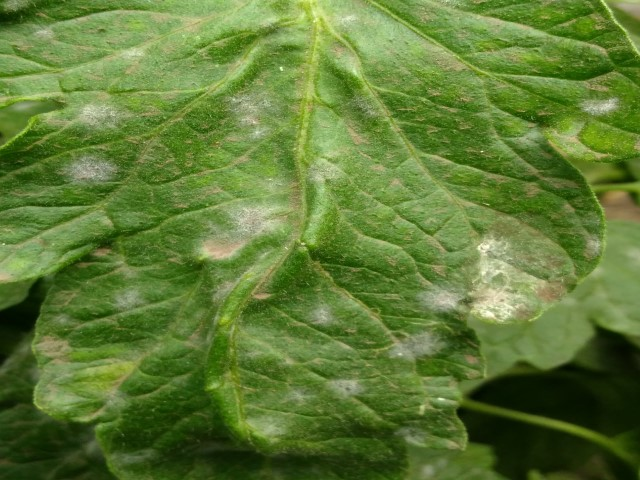oidio: (224, 88, 294, 150), (230, 197, 296, 245), (239, 409, 298, 448), (58, 152, 124, 186), (412, 275, 466, 314), (383, 332, 445, 362), (109, 281, 151, 316), (81, 100, 129, 127), (573, 94, 618, 121), (328, 375, 365, 404), (310, 304, 331, 324)
